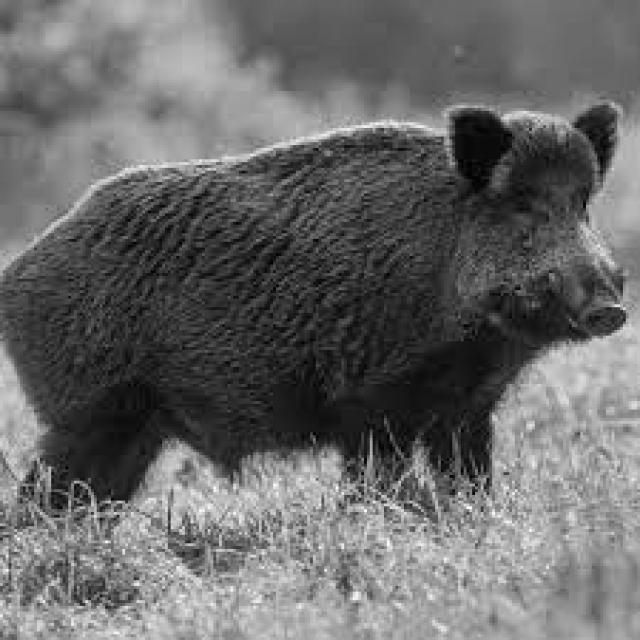boar: (0, 100, 620, 495)
